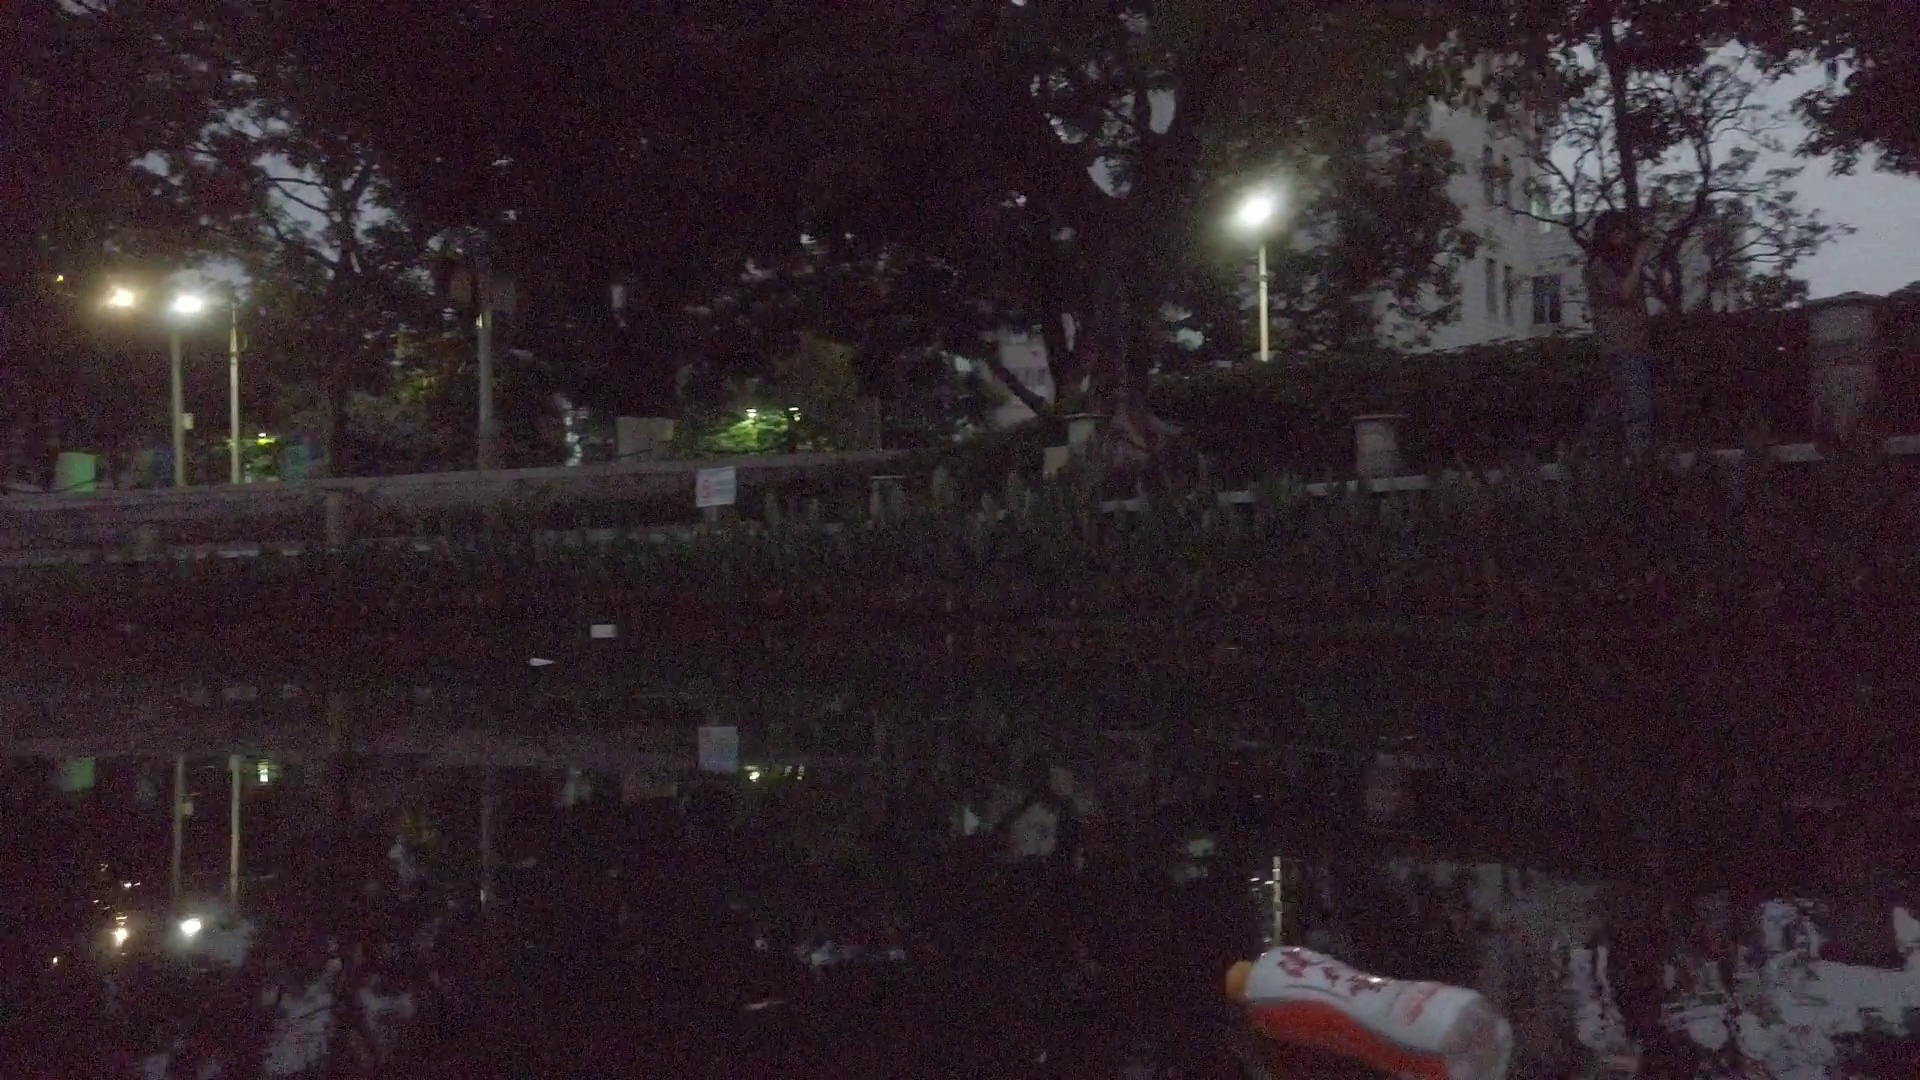bottle: (1216, 934, 1518, 1067)
carton: (589, 624, 617, 636)
paper: (524, 654, 558, 669)
